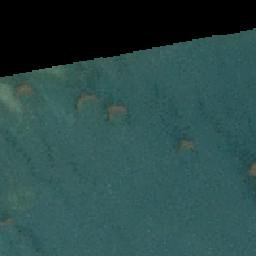debris: (73, 90, 96, 110), (105, 101, 126, 122), (12, 81, 32, 98), (177, 137, 196, 153), (246, 161, 256, 178)
